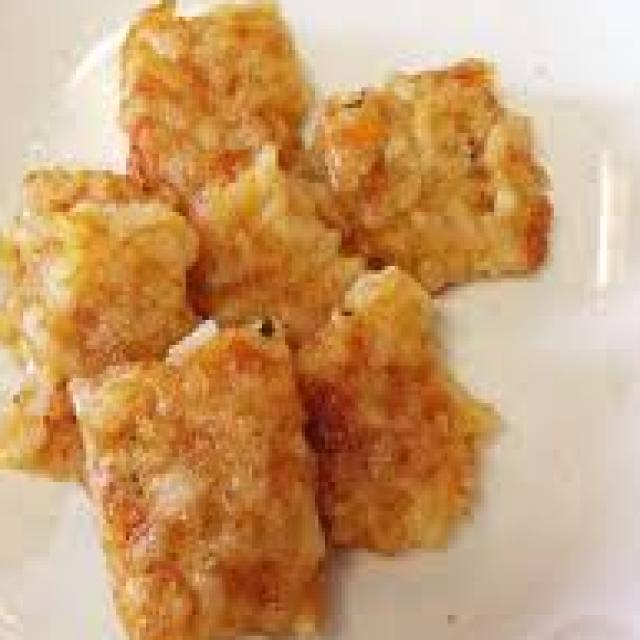inorganic: (17, 14, 552, 623)
